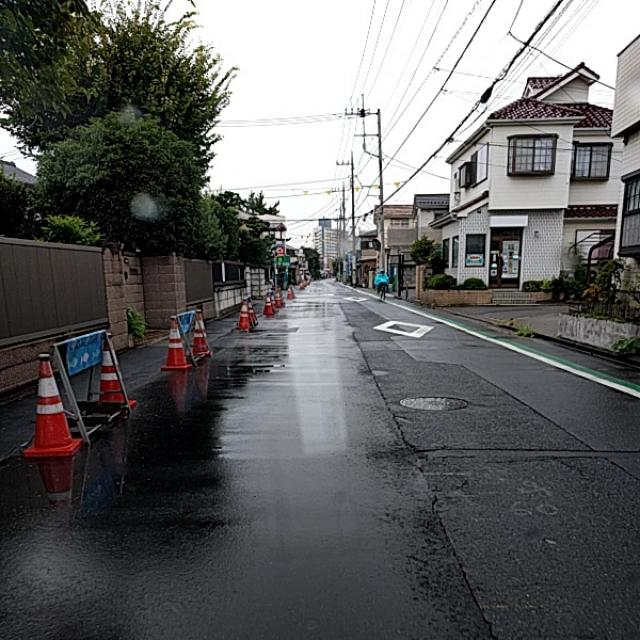pothole: (397, 453, 494, 609)
